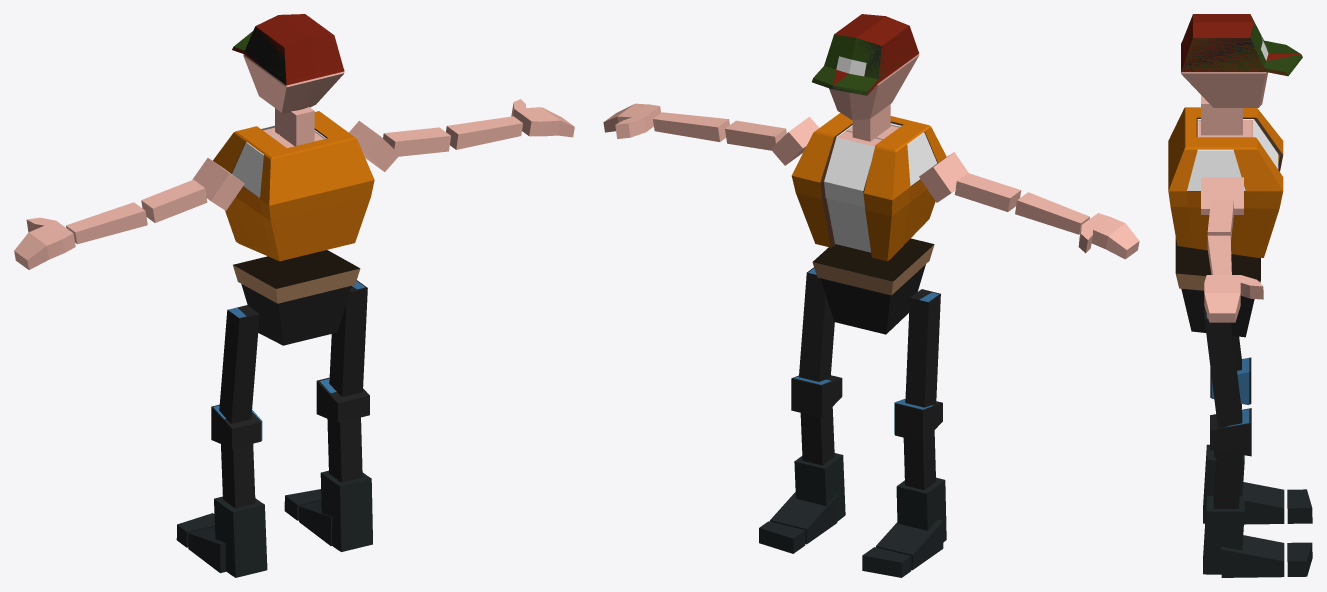
Rendered from Modular_Staff.fbx.
The picture shows the model from 3 angles, left to right: view 1: azimuth 30°, elevation 25°; view 2: azimuth 150°, elevation 25°; view 3: azimuth 270°, elevation 25°; orthographic projection. The views are drawn at different scales.
Parts seen in each view (by area): view 1: male_legs_JeansBlack, male_ReferenceMesh, male_chest_VestOrange, male_feet_BootsBlack, male_head_HatRed, male_head_HatBlack, male_chest_WhiteShirt; view 2: male_legs_JeansBlack, male_ReferenceMesh, male_chest_VestOrange, male_feet_BootsBlack, male_chest_WhiteShirt, male_head_HatGreen, male_head_HatRed, male_head_HatBlack; view 3: male_chest_VestOrange, male_legs_JeansBlack, male_ReferenceMesh, male_feet_BootsBlack, male_head_HatRed, male_head_HatGreen, male_chest_WhiteShirt, male_head_HatBlack, male_legs_JeansBlue.
Boxes of the visible parts, <box> form: male_legs_JeansBlack: <box>211,250,369,508</box>; male_ReferenceMesh: <box>14,54,574,269</box>; male_chest_VestOrange: <box>213,111,374,261</box>; male_feet_BootsBlack: <box>176,470,372,577</box>; male_head_HatRed: <box>232,14,344,85</box>; male_head_HatBlack: <box>238,26,286,84</box>; male_chest_WhiteShirt: <box>232,125,326,197</box>; male_legs_JeansBlack: <box>791,238,942,489</box>; male_ReferenceMesh: <box>603,54,1139,259</box>; male_chest_VestOrange: <box>791,113,946,261</box>; male_feet_BootsBlack: <box>759,453,946,577</box>; male_chest_WhiteShirt: <box>824,123,936,252</box>; male_head_HatGreen: <box>812,34,917,95</box>; male_head_HatRed: <box>833,14,919,95</box>; male_head_HatBlack: <box>822,39,891,95</box>; male_chest_VestOrange: <box>1168,107,1283,257</box>; male_legs_JeansBlack: <box>1175,237,1260,508</box>; male_ReferenceMesh: <box>1181,72,1268,322</box>; male_feet_BootsBlack: <box>1203,444,1312,577</box>; male_head_HatRed: <box>1181,14,1300,75</box>; male_head_HatGreen: <box>1181,16,1302,76</box>; male_chest_WhiteShirt: <box>1187,119,1278,190</box>; male_head_HatBlack: <box>1182,34,1284,72</box>; male_legs_JeansBlue: <box>1206,315,1249,426</box>.
Bounding box in the file's own units: 1.96 × 0.455 × 1.81.
